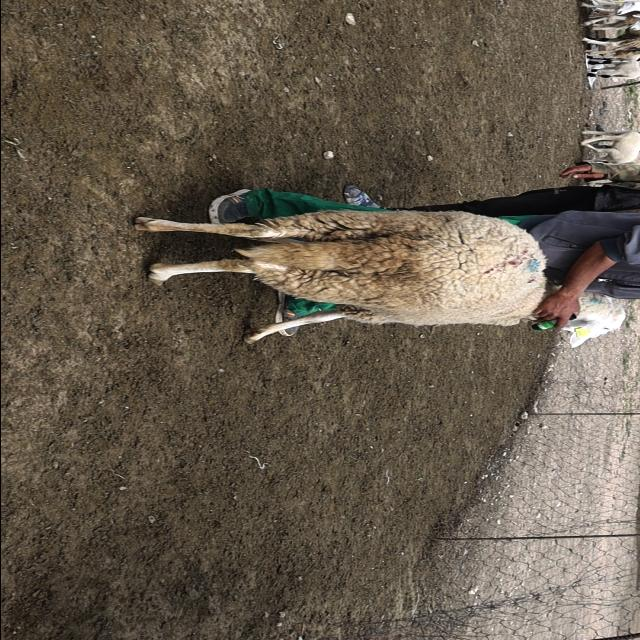Score_5: (134, 205, 545, 343)
